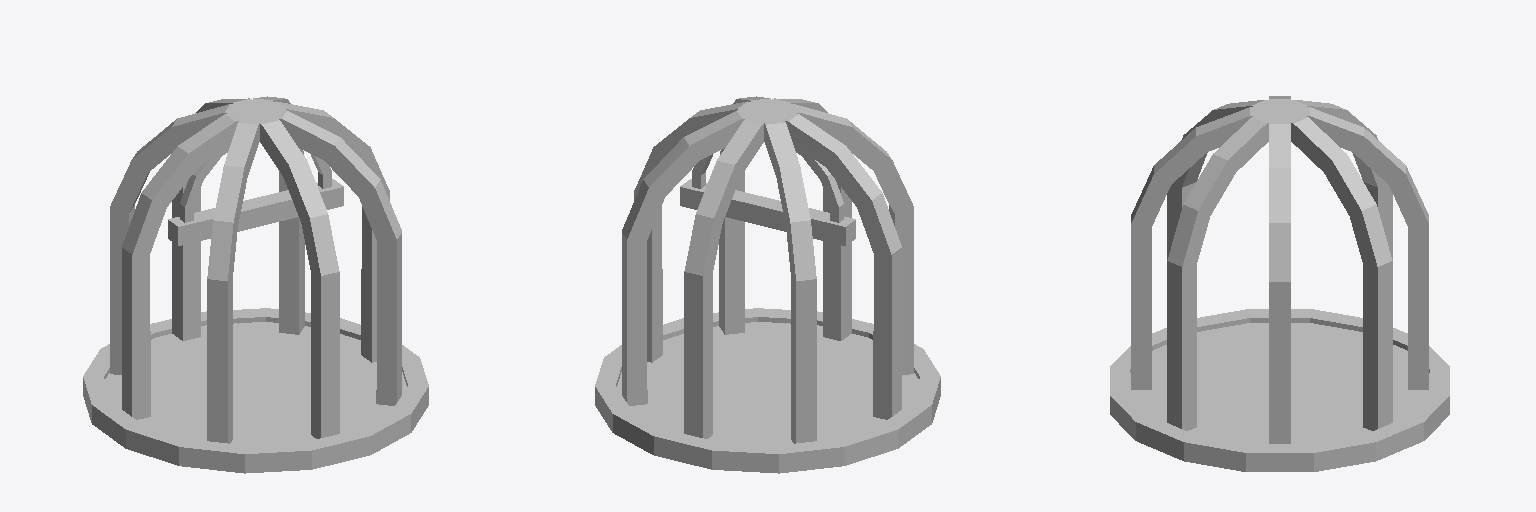
File: bat_cage.obj
3 views of the same model, side by side, from view 1: azimuth 30°, elevation 25°; view 2: azimuth 150°, elevation 25°; view 3: azimuth 270°, elevation 25° (orthographic).
Visible parts, largest first — view 1: bars, base, rim, stock, hexadecagon.025; view 2: bars, base, rim, stock, hexadecagon.025; view 3: bars, base, rim.
Boxes of the visible parts, <box> form: bars: <box>110,96,401,443</box>; base: <box>105,322,406,445</box>; rim: <box>83,308,428,473</box>; stock: <box>168,179,343,245</box>; hexadecagon.025: <box>180,146,331,222</box>; bars: <box>622,96,913,443</box>; base: <box>617,322,918,445</box>; rim: <box>595,308,940,473</box>; stock: <box>680,179,855,245</box>; hexadecagon.025: <box>692,146,843,222</box>; bars: <box>1131,96,1428,443</box>; base: <box>1130,323,1429,443</box>; rim: <box>1110,309,1449,471</box>.
Size of the model in its own units: 1 by 0.9375 by 1.